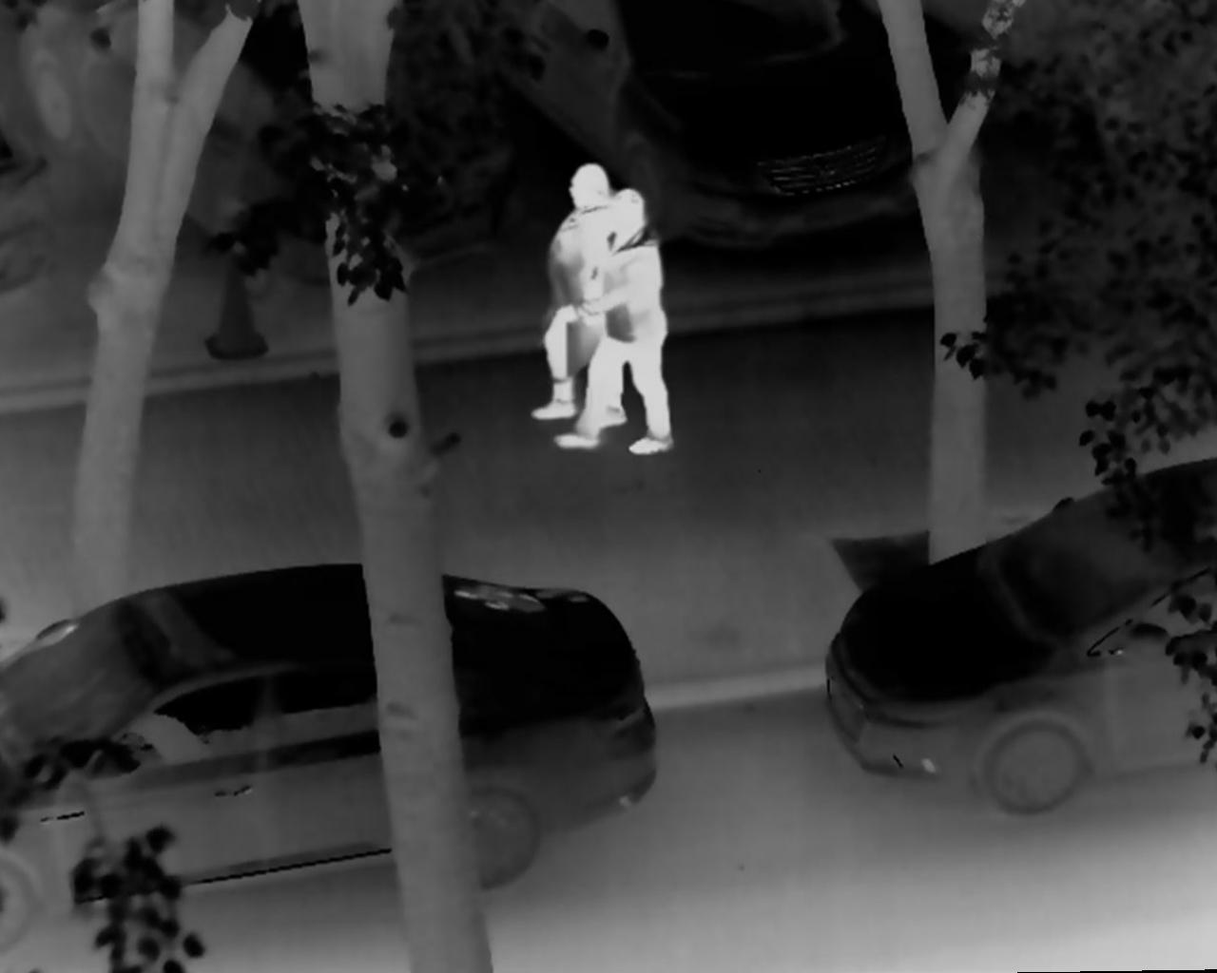person: (550, 184, 683, 456), (531, 161, 640, 429)
